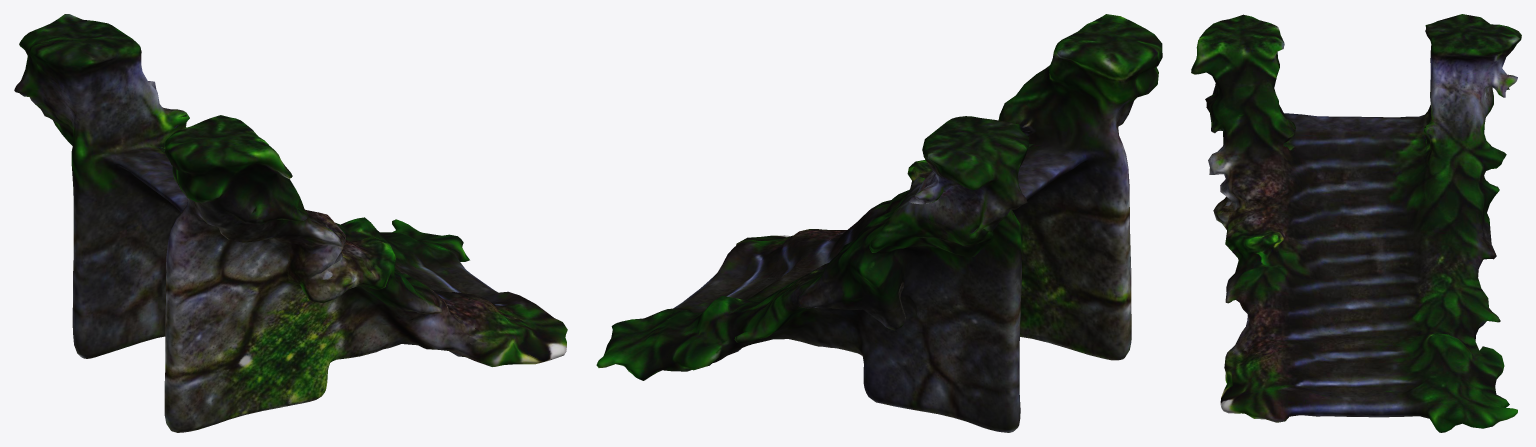
File: 534b65a40d5a_to_touch_the_starli.fbx
The picture shows the model from 3 angles, left to right: view 1: azimuth 30°, elevation 25°; view 2: azimuth 150°, elevation 25°; view 3: azimuth 270°, elevation 25°; orthographic projection. The views are drawn at different scales.
Visible parts, largest first — view 1: mesh; view 2: mesh; view 3: mesh.
Part boxes in pixels (x1=…): mesh: x1=14, y1=14, x2=567, y2=432; mesh: x1=596, y1=14, x2=1162, y2=432; mesh: x1=1191, y1=14, x2=1521, y2=432.
Size of the model in its own units: 98.68 by 66.89 by 78.73.
